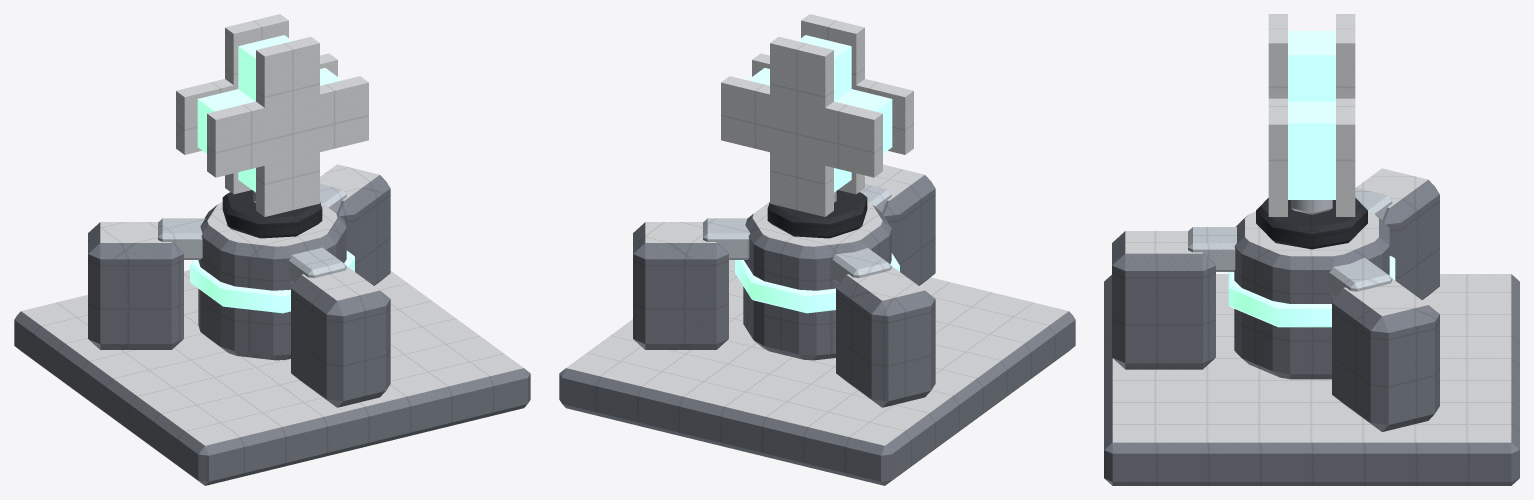
Rendered from R4X_RepairTurretDeployer_LOD1.glb.
3 renders of one model, left to right at view 1: azimuth 30°, elevation 25°; view 2: azimuth 150°, elevation 25°; view 3: azimuth 270°, elevation 25°, orthographic. The views are drawn at different scales.
Parts seen in each view (by area): view 1: R4X_RepairTurretDeployer_LOD1; view 2: R4X_RepairTurretDeployer_LOD1; view 3: R4X_RepairTurretDeployer_LOD1.
Boxes of the visible parts, left/top/right/bottom form: R4X_RepairTurretDeployer_LOD1: left=14, top=14, right=530, bottom=485; R4X_RepairTurretDeployer_LOD1: left=559, top=14, right=1075, bottom=485; R4X_RepairTurretDeployer_LOD1: left=1104, top=14, right=1519, bottom=485.
Bounding box in the file's own units: 0.52 × 0.515 × 0.52.
5 materials, 4 textured.
